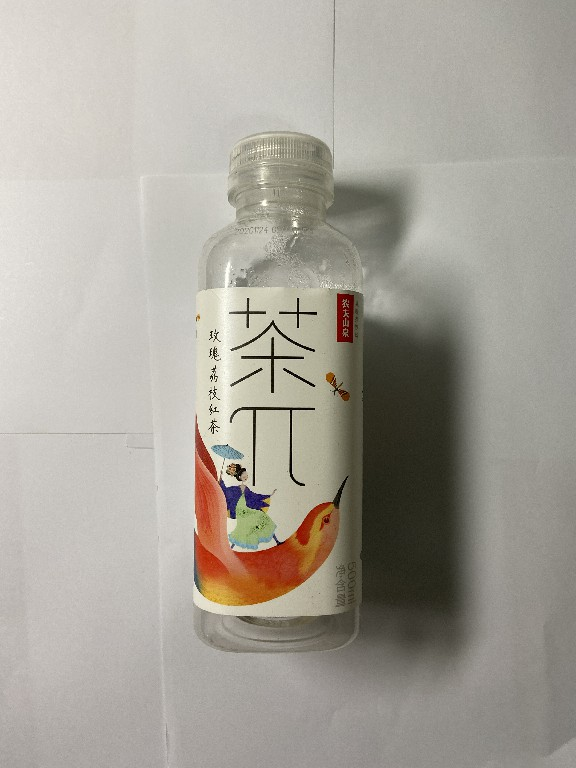bottle: (175, 123, 379, 661)
